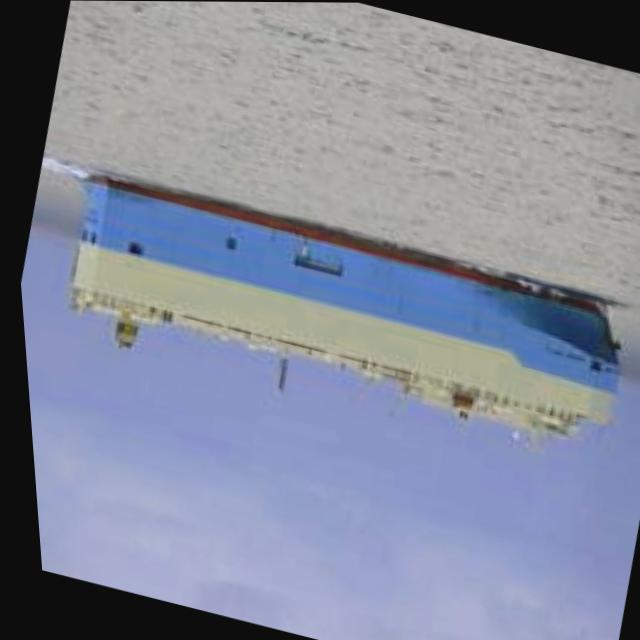ship2: (64, 172, 617, 452)
